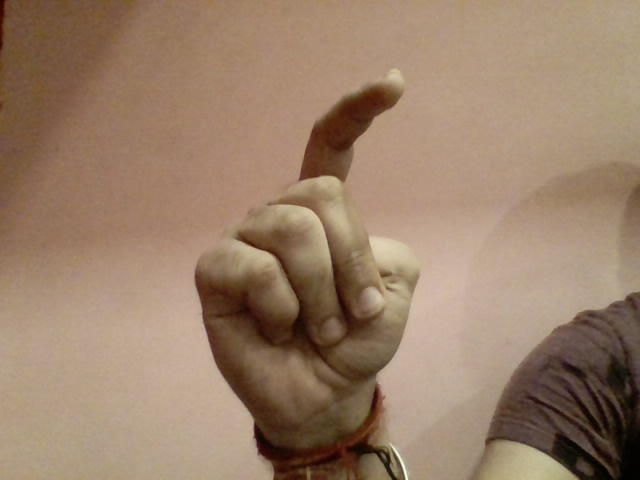x: (183, 60, 436, 414)
